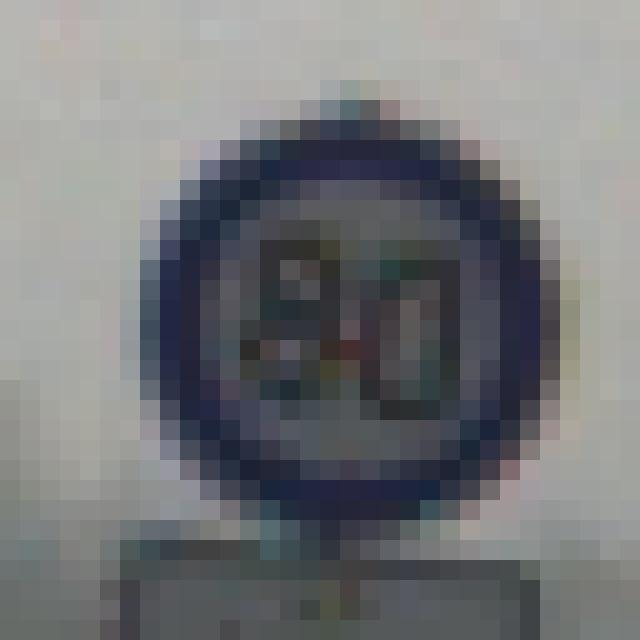SPEED-LIMIT-80: (140, 112, 556, 522)
